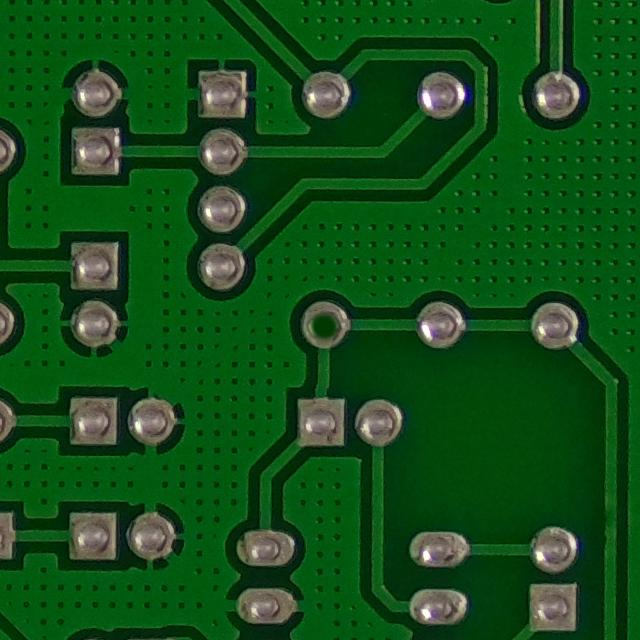missing_hole: (287, 288, 354, 353)
